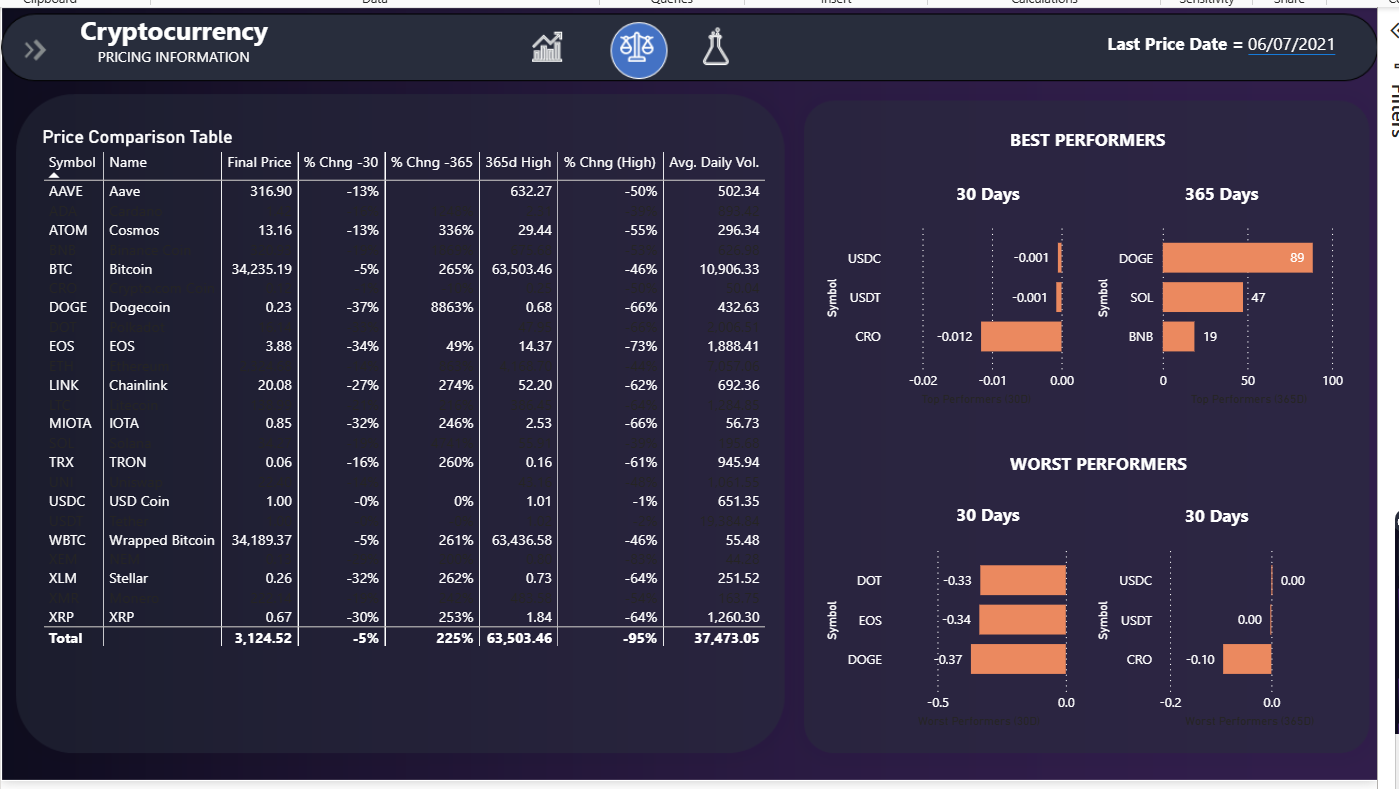

The dashboard page shown, as its layout file describes it:
{"tool":"powerbi","page":{"name":"Cyrptocurrency Pricing","canvas":[1280,720],"ordinal":2},"visuals":[{"type":"tableEx","title":"Price Comparison Table","fields":{"Values":["Crypto symbols.Symbol","Crypto symbols.Name","Key Measures.Close Price (Final)","Key Measures.% Change (-30 Days)","Key Measures.% Change (-365 Days)","Key Measures.High Price (-365 Days)","Key Measures.% Change (From 365 High)","Key Measures.Average Daily Volume"]},"box":[34.1,110.7,686.2,529.3],"z":0},{"type":"textbox","box":[1024.5,17,231.2,36.5],"z":1000},{"type":"clusteredBarChart","fields":{"Category":["Crypto symbols.Symbol"],"Y":["Crypto prices.Top Performers (30D)"]},"box":[762.9,192.2,240.9,183.7],"z":2000},{"type":"clusteredBarChart","fields":{"Category":["Crypto symbols.Symbol"],"Y":["Key Measures.Top Performers (365D)"]},"box":[1014.8,192.2,240.9,183.7],"z":3000},{"type":"clusteredBarChart","fields":{"Category":["Crypto symbols.Symbol"],"Y":["Key Measures.Worst Performers (30D)"]},"box":[762.9,491.6,240.9,183.7],"z":4000},{"type":"clusteredBarChart","fields":{"Category":["Crypto symbols.Symbol"],"Y":["Key Measures.Worst Performers (365D)"]},"box":[1014.8,491.6,240.9,183.7],"z":5000},{"type":"textbox","box":[933.2,107.1,163,35.3],"z":6000},{"type":"textbox","box":[933.2,407.6,261.6,35.3],"z":7000},{"type":"textbox","box":[883.3,157,77.9,35.3],"z":8000},{"type":"textbox","box":[883.3,456.3,77.9,35.3],"z":9000},{"type":"textbox","box":[1096.3,157,98.6,35.3],"z":10000},{"type":"textbox","box":[1096.3,457.5,98.6,35.3],"z":11000},{"type":"textbox","box":[60.8,0,200.8,68.1],"z":12000},{"type":"actionButton","box":[478.7,12.7,81.5,53.5],"z":13000},{"type":"actionButton","box":[640,14.6,66.9,53.5],"z":14000},{"type":"actionButton","box":[11,7.3,40.2,66.9],"z":15000}]}

Visuals, with their boxes on the page's 1280x720 design canvas (x1, y1, x2, y2). These are canvas units, not pixel positions in the 1399x789 screenshot, which may show the page scaled, cropped or inside an application window:
"Price Comparison Table" tableEx: box=[34, 111, 720, 640]
textbox: box=[1024, 17, 1256, 54]
clusteredBarChart - Crypto symbols.Symbol x Crypto prices.Top Performers (30D): box=[763, 192, 1004, 376]
clusteredBarChart - Crypto symbols.Symbol x Key Measures.Top Performers (365D): box=[1015, 192, 1256, 376]
clusteredBarChart - Crypto symbols.Symbol x Key Measures.Worst Performers (30D): box=[763, 492, 1004, 675]
clusteredBarChart - Crypto symbols.Symbol x Key Measures.Worst Performers (365D): box=[1015, 492, 1256, 675]
textbox: box=[933, 107, 1096, 142]
textbox: box=[933, 408, 1195, 443]
textbox: box=[883, 157, 961, 192]
textbox: box=[883, 456, 961, 492]
textbox: box=[1096, 157, 1195, 192]
textbox: box=[1096, 458, 1195, 493]
textbox: box=[61, 0, 262, 68]
actionButton: box=[479, 13, 560, 66]
actionButton: box=[640, 15, 707, 68]
actionButton: box=[11, 7, 51, 74]
